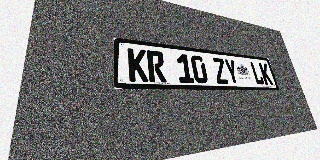0: (190, 55, 208, 83)
1: (175, 53, 194, 83)
K: (127, 48, 148, 82), (258, 63, 274, 85)
L: (249, 62, 265, 85)
R: (146, 50, 167, 82)
Y: (223, 59, 240, 84)
Z: (212, 57, 229, 84)
